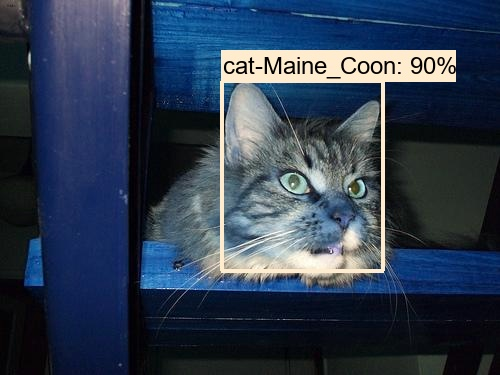cat-Maine_Coon: (225, 78, 381, 277)
